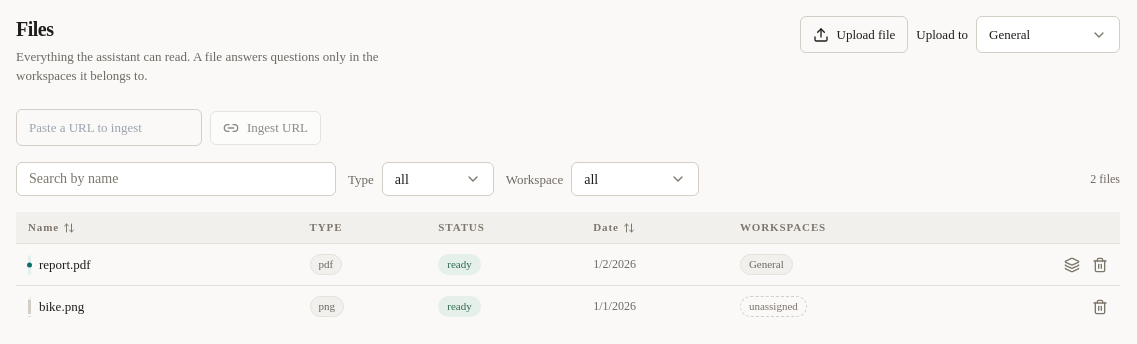
Test: FilesManager › filters by extension
Expected: the text "report.pdf" is shown, 39,255 -> 91,274
Click the button with aria-label "Filter by type" at (438, 179), box 382,162 -> 494,196
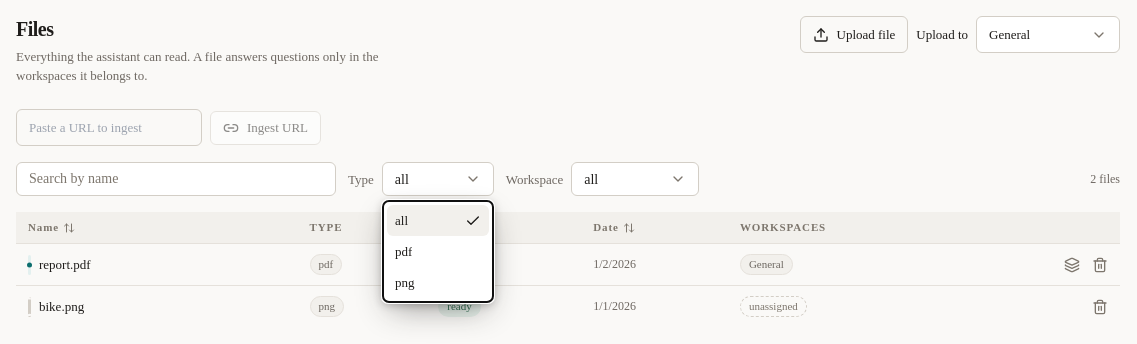
Click the option "png" at (405, 282), box 395,275 -> 414,290
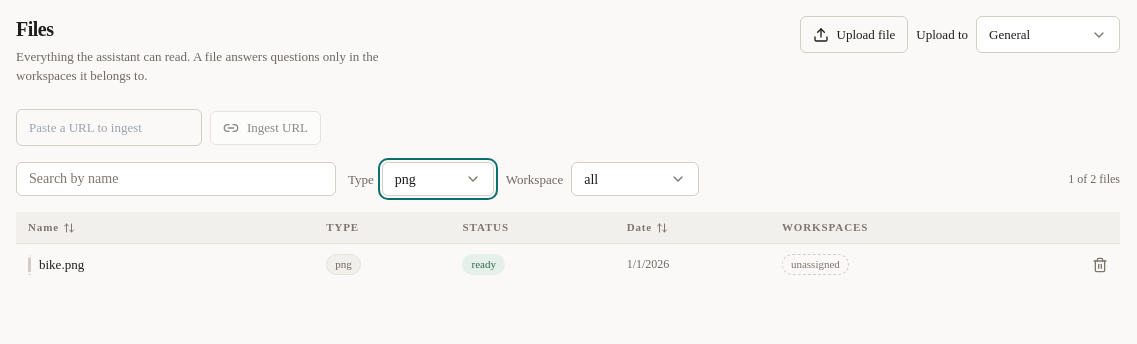
Expected: the button "bike.png" is shown, 39,255 -> 84,274
Now the text "report.pdf" is gone
